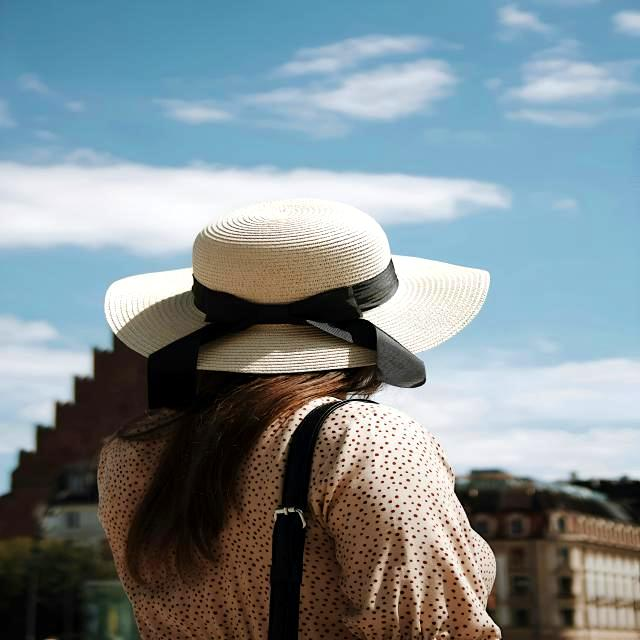no_hard_hat: (105, 200, 489, 377)
person: (98, 200, 500, 640)
